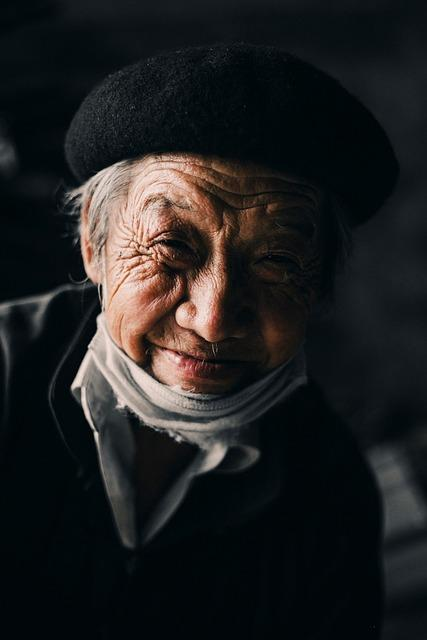Non_Gorille: (17, 64, 410, 604)
